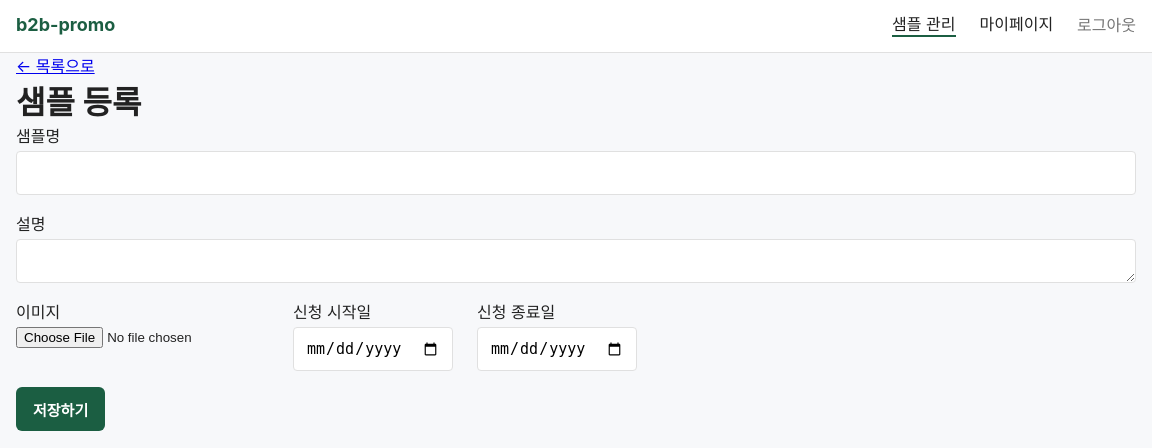
SampleFormPage › 등록 성공 시 관리자 목록 화면으로 이동한다
The width and height of the screenshot is (1152, 448).
Step 1. Type "샘플A" into the field labelled "샘플명" → (576, 173), box [16, 151, 1136, 195]
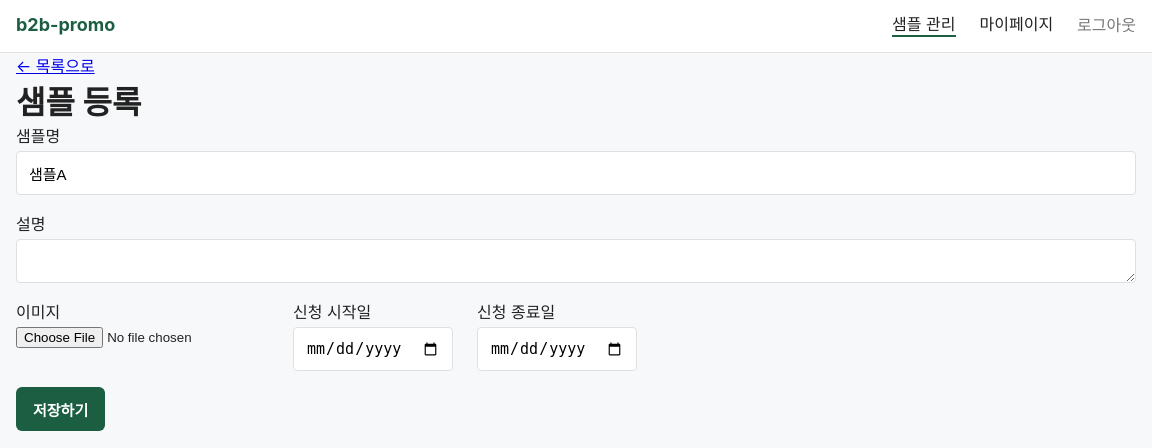
Step 2. Type "2026-08-01" into the date field labelled "신청 시작일" → (373, 349), box [293, 327, 453, 371]
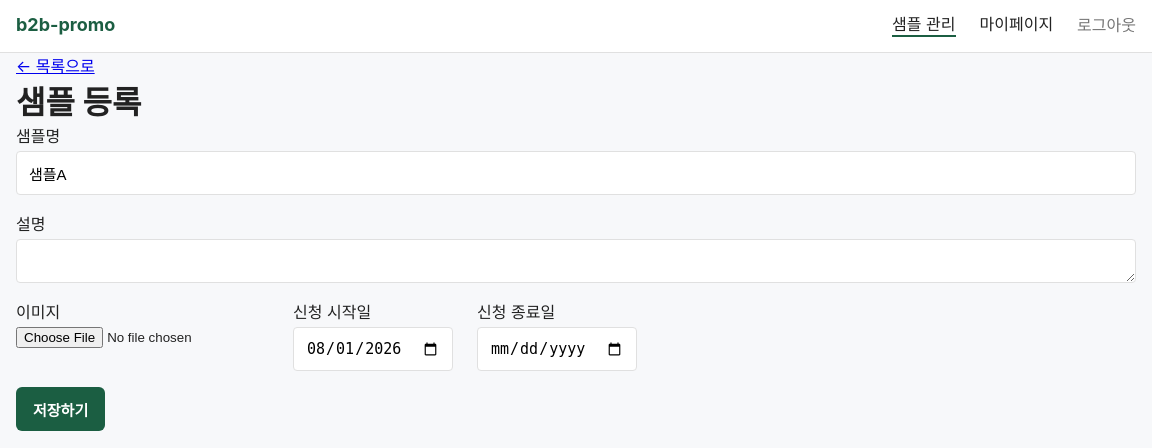
Step 3. Type "2026-08-20" into the date field labelled "신청 종료일" → (557, 349), box [477, 327, 637, 371]
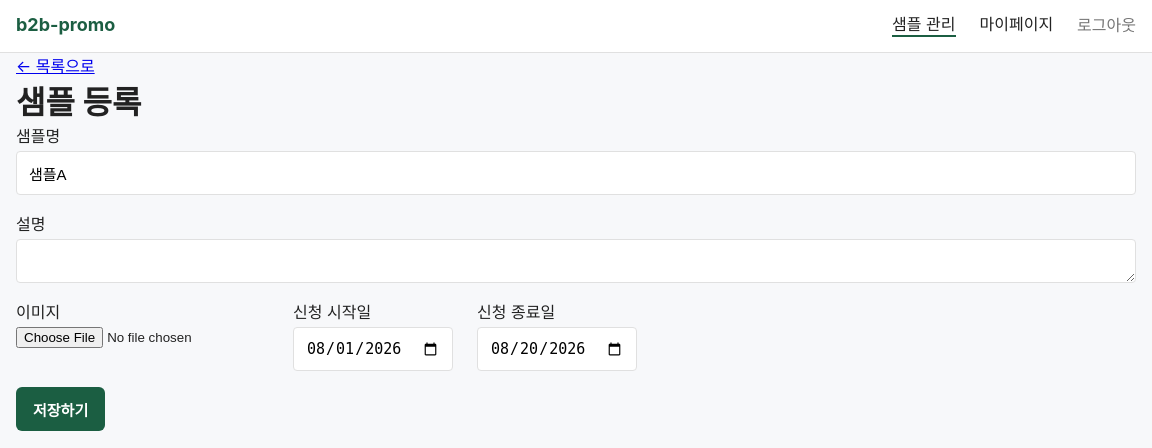
Step 4. Click the button "저장하기" → (61, 409), box [16, 387, 105, 431]
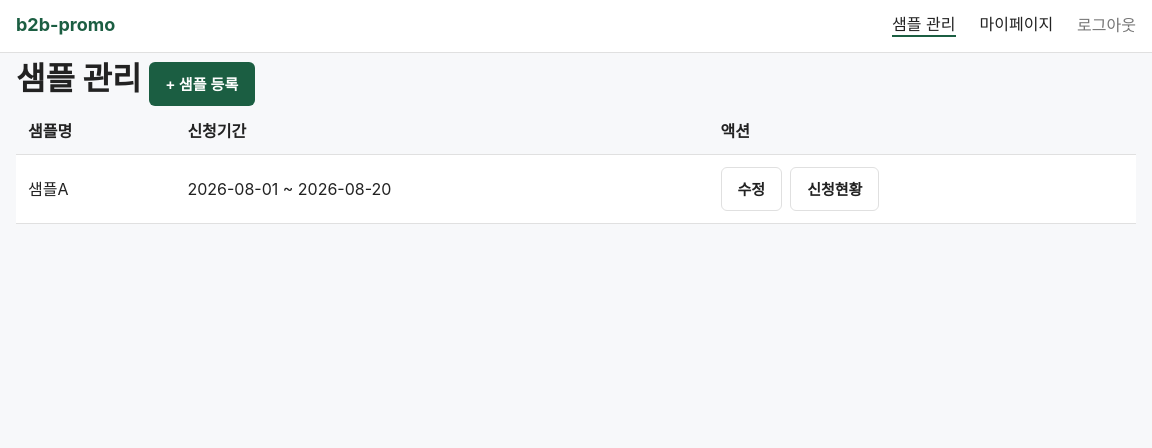
Result: the button "+ 샘플 등록" is shown at [149, 62, 255, 106]
